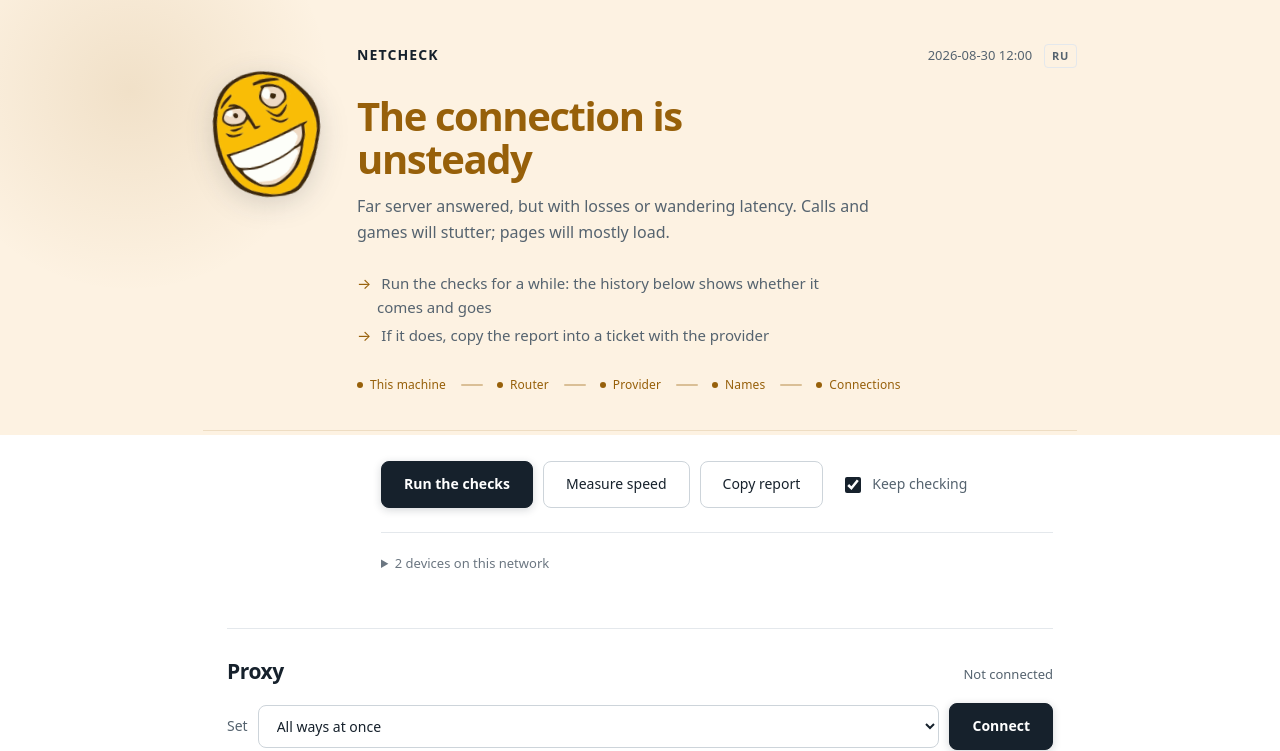
Test: the page › names who made each device on the network
The image size is (1280, 751).
Expected: the heading "The connection is unsteady" is shown, top-left (357, 88), bottom-right (682, 186)
Click the heading "2 devices on this network" at (472, 563), box top-left (395, 554), bottom-right (549, 572)
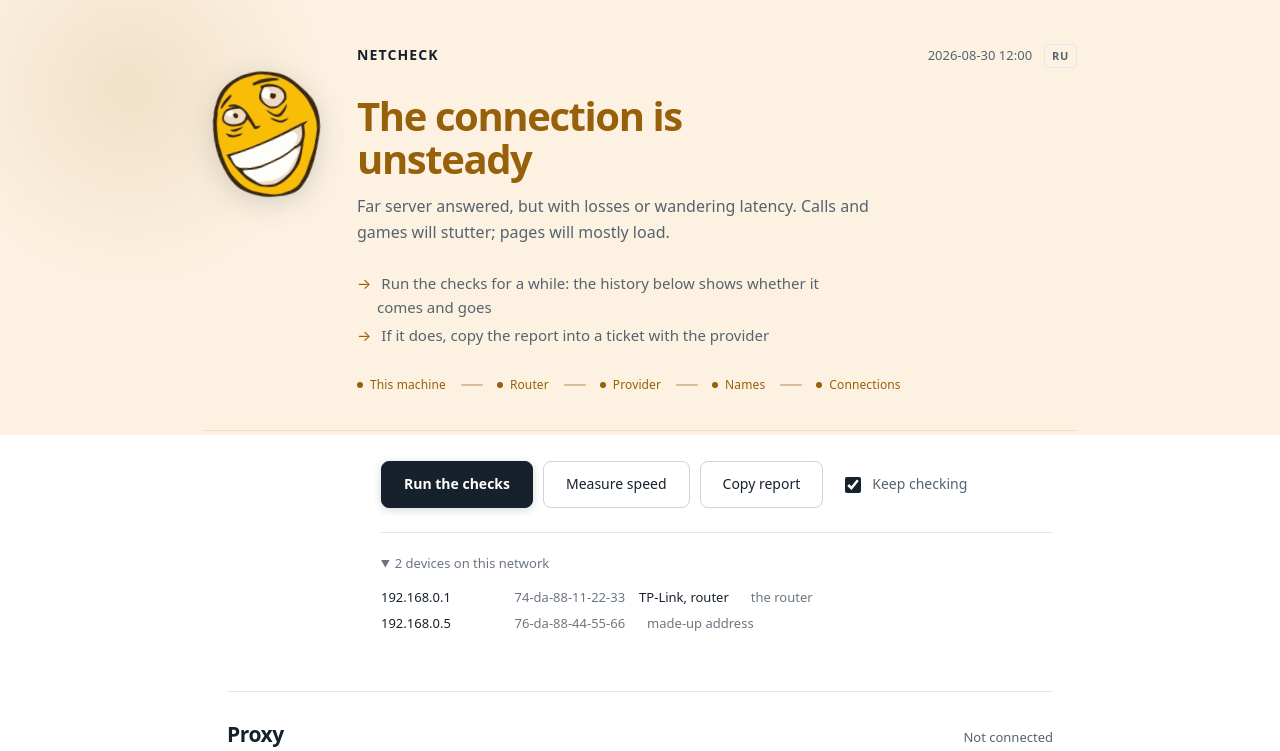
Expected: the text "TP-Link, router" is shown, top-left (639, 586), bottom-right (729, 607)
Expected: the text "made-up address" is shown, top-left (647, 613), bottom-right (754, 634)
